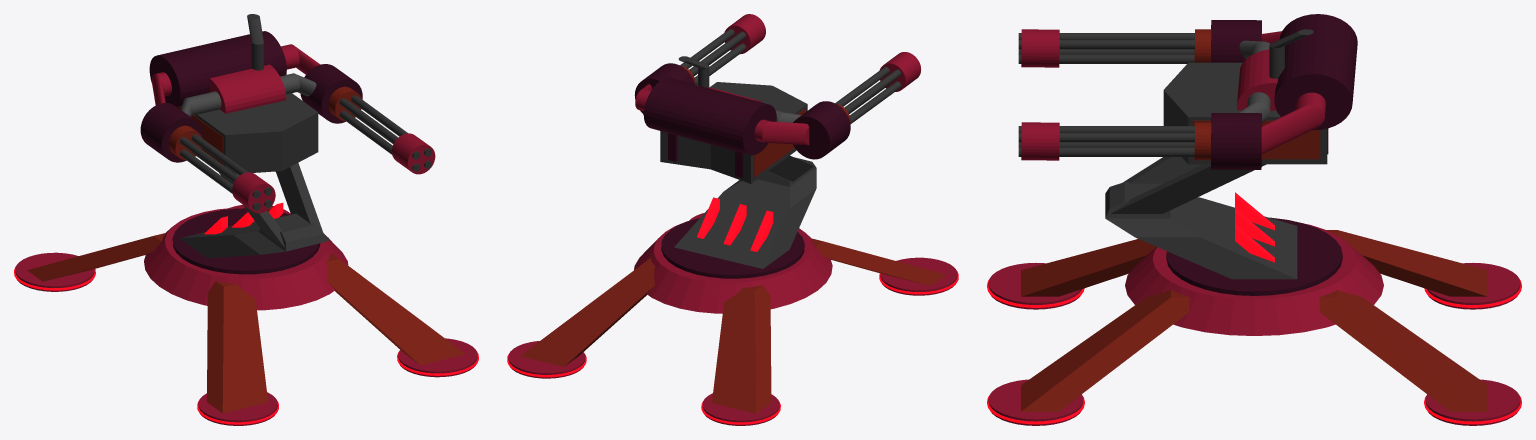
The model's file is Turm 13.fbx.
3 renders of one model, left to right at view 1: azimuth 30°, elevation 25°; view 2: azimuth 150°, elevation 25°; view 3: azimuth 270°, elevation 25°, orthographic. The views are drawn at different scales.
Parts seen in each view (by area): view 1: Cube.001, Cube.002; view 2: Cube.001, Cube.002; view 3: Cube.001, Cube.002.
Boxes of the visible parts, left/top/right/bottom form: Cube.001: left=140, top=14, right=435, bottom=274; Cube.002: left=14, top=205, right=478, bottom=425; Cube.001: left=634, top=14, right=921, bottom=278; Cube.002: left=507, top=213, right=958, bottom=425; Cube.001: left=1018, top=14, right=1357, bottom=295; Cube.002: left=987, top=224, right=1521, bottom=425.
Bounding box in the file's own units: 393 × 386 × 563.
